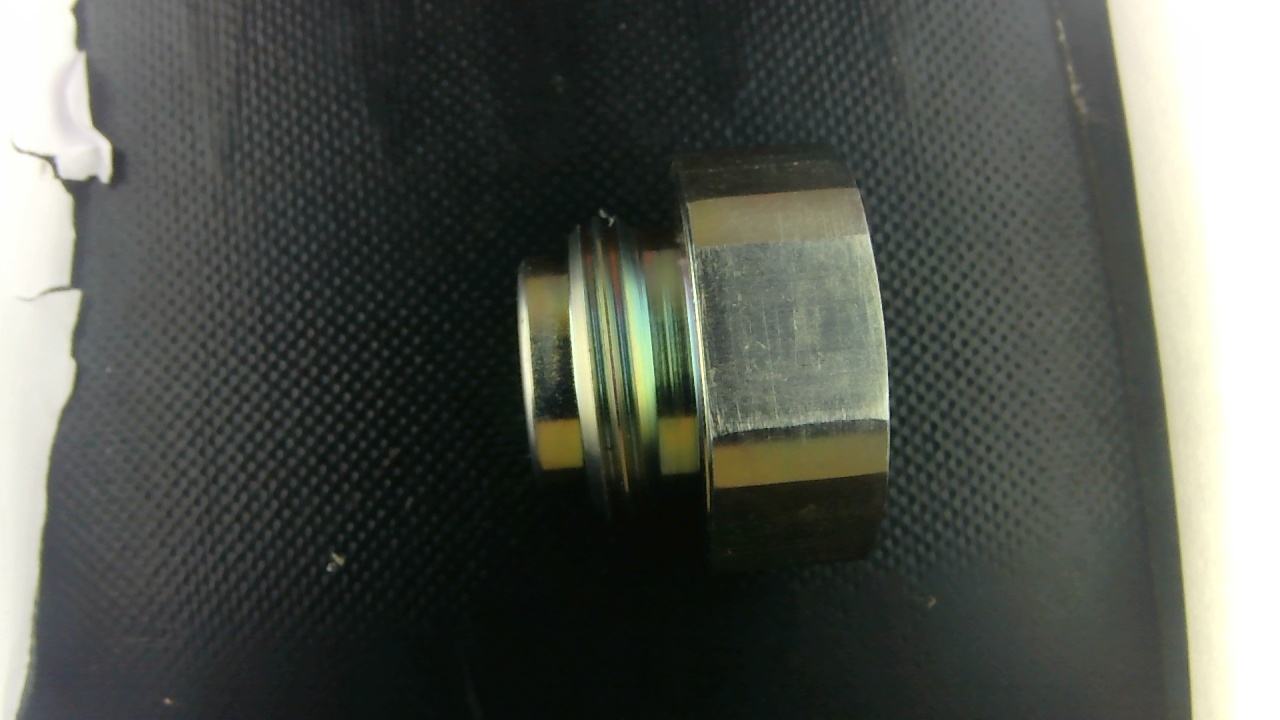Capnut_Okay: (517, 146, 890, 569)
